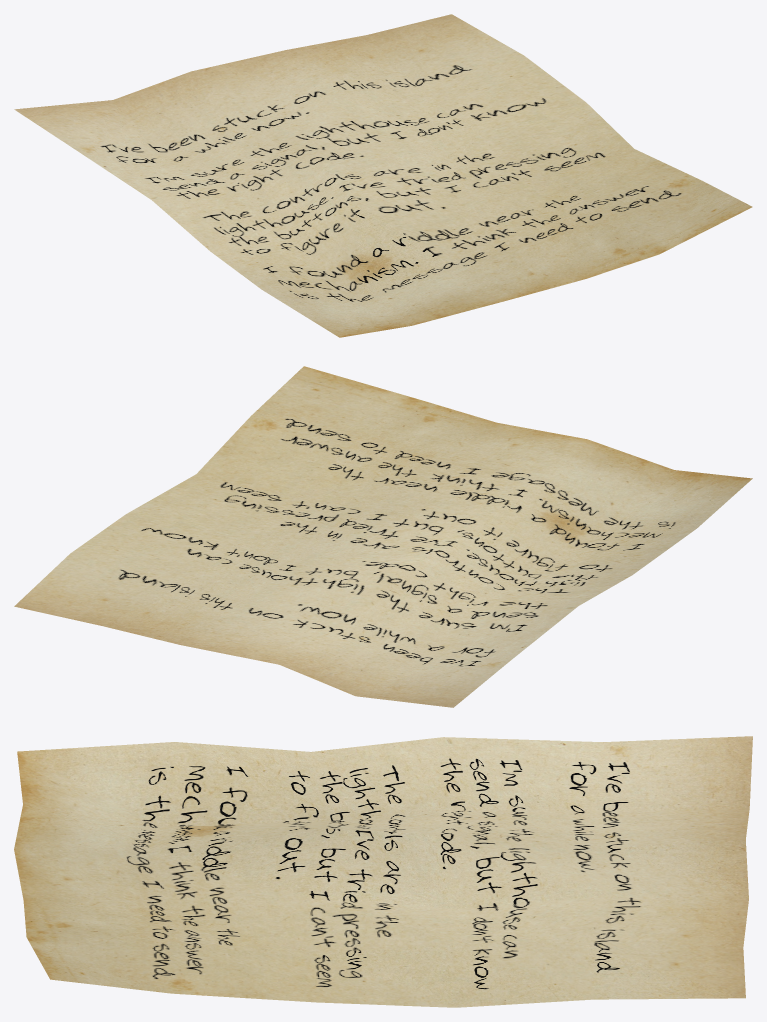
File: Hint_Paper.fbx
3 views of the same model, one above another, from view 1: azimuth 30°, elevation 25°; view 2: azimuth 150°, elevation 25°; view 3: azimuth 270°, elevation 25° (orthographic). The views are drawn at different scales.
Parts seen in each view (by area): view 1: Plane; view 2: Plane; view 3: Plane.
Boxes of the visible parts, <box> form: Plane: <box>14,14,752,337</box>; Plane: <box>14,366,752,707</box>; Plane: <box>14,736,752,1007</box>.
Bounding box in the file's own units: 7165 × 612 × 8638.
Materials: 1 (1 with a texture image).
